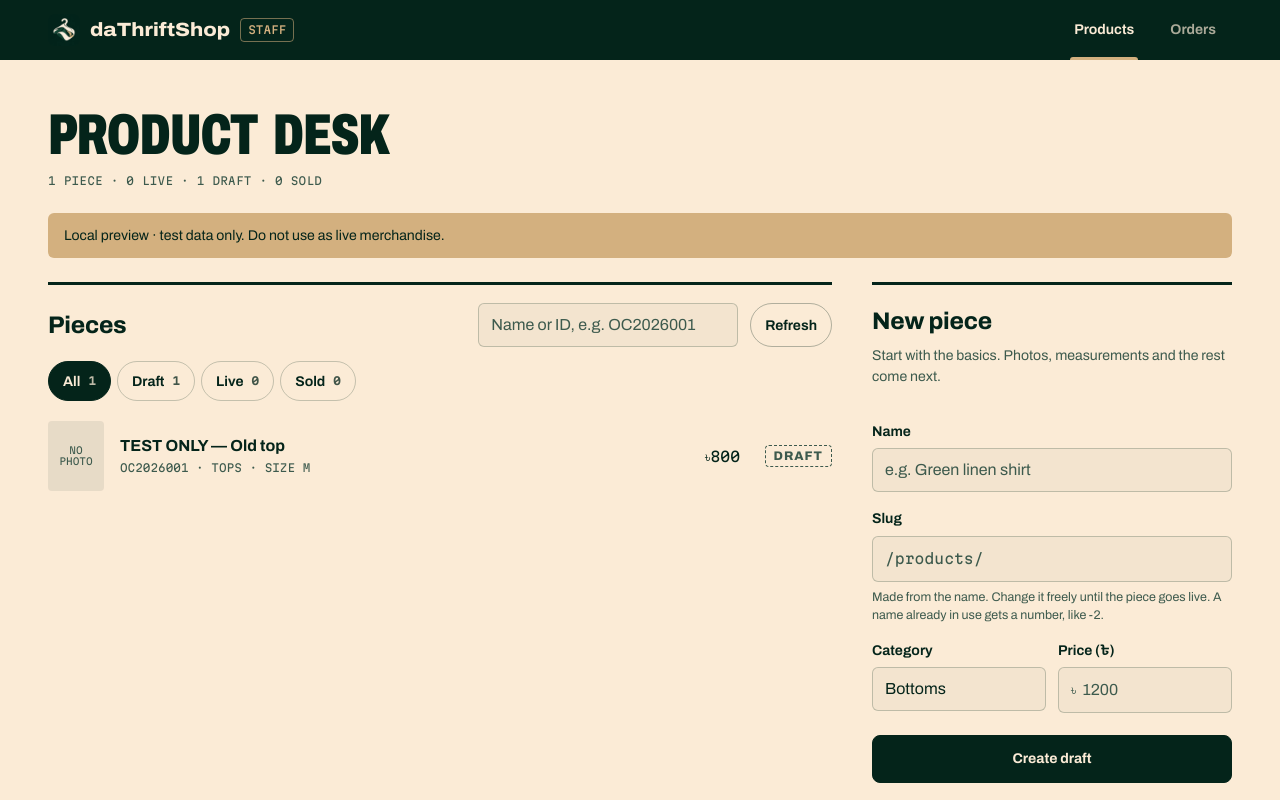
says so when no piece matches
This screenshot has width=1280, height=800.
Type "velvet" into the search field named "Find a piece" at (608, 325), box [478,303,738,347]
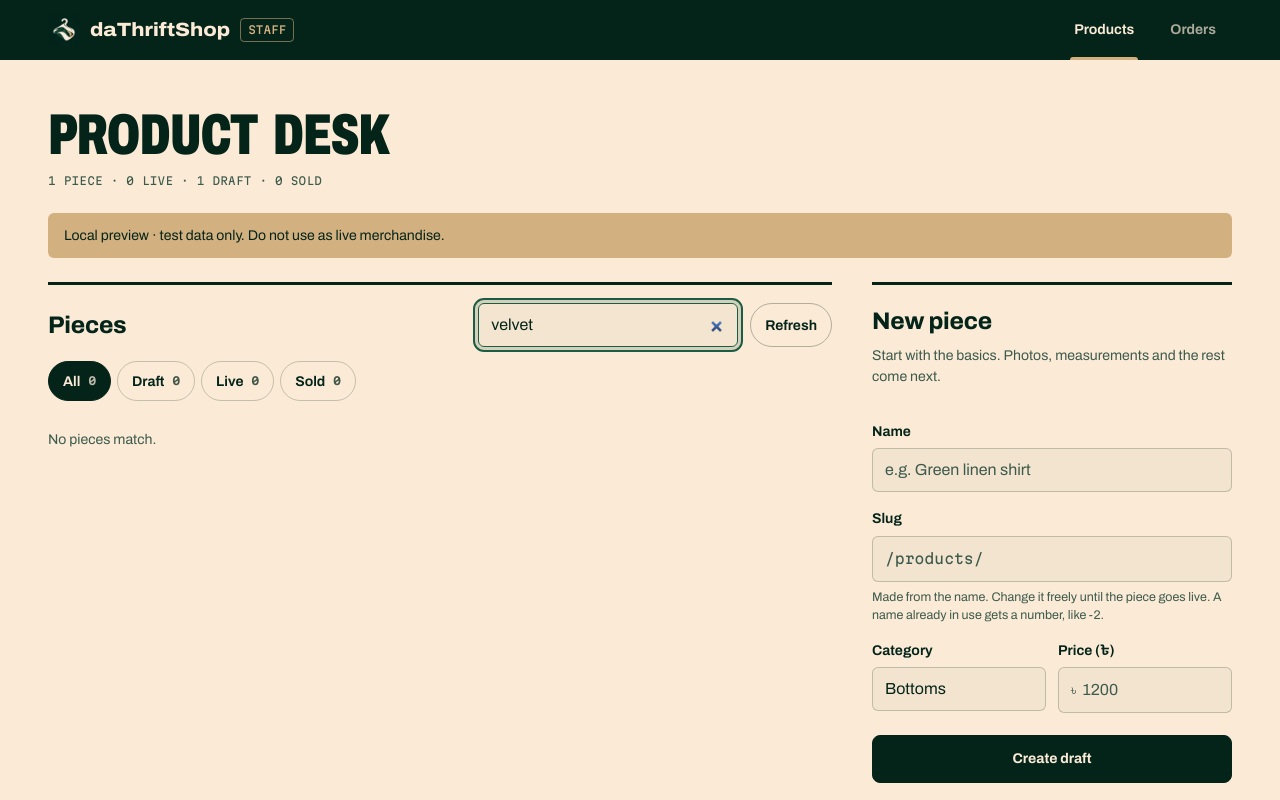
Check: the text "1 piece · 0 live · 1 draft · 0 sold" is shown, box [48,173,322,189]
Check: the button "All 0" is shown, box [48,361,111,401]
